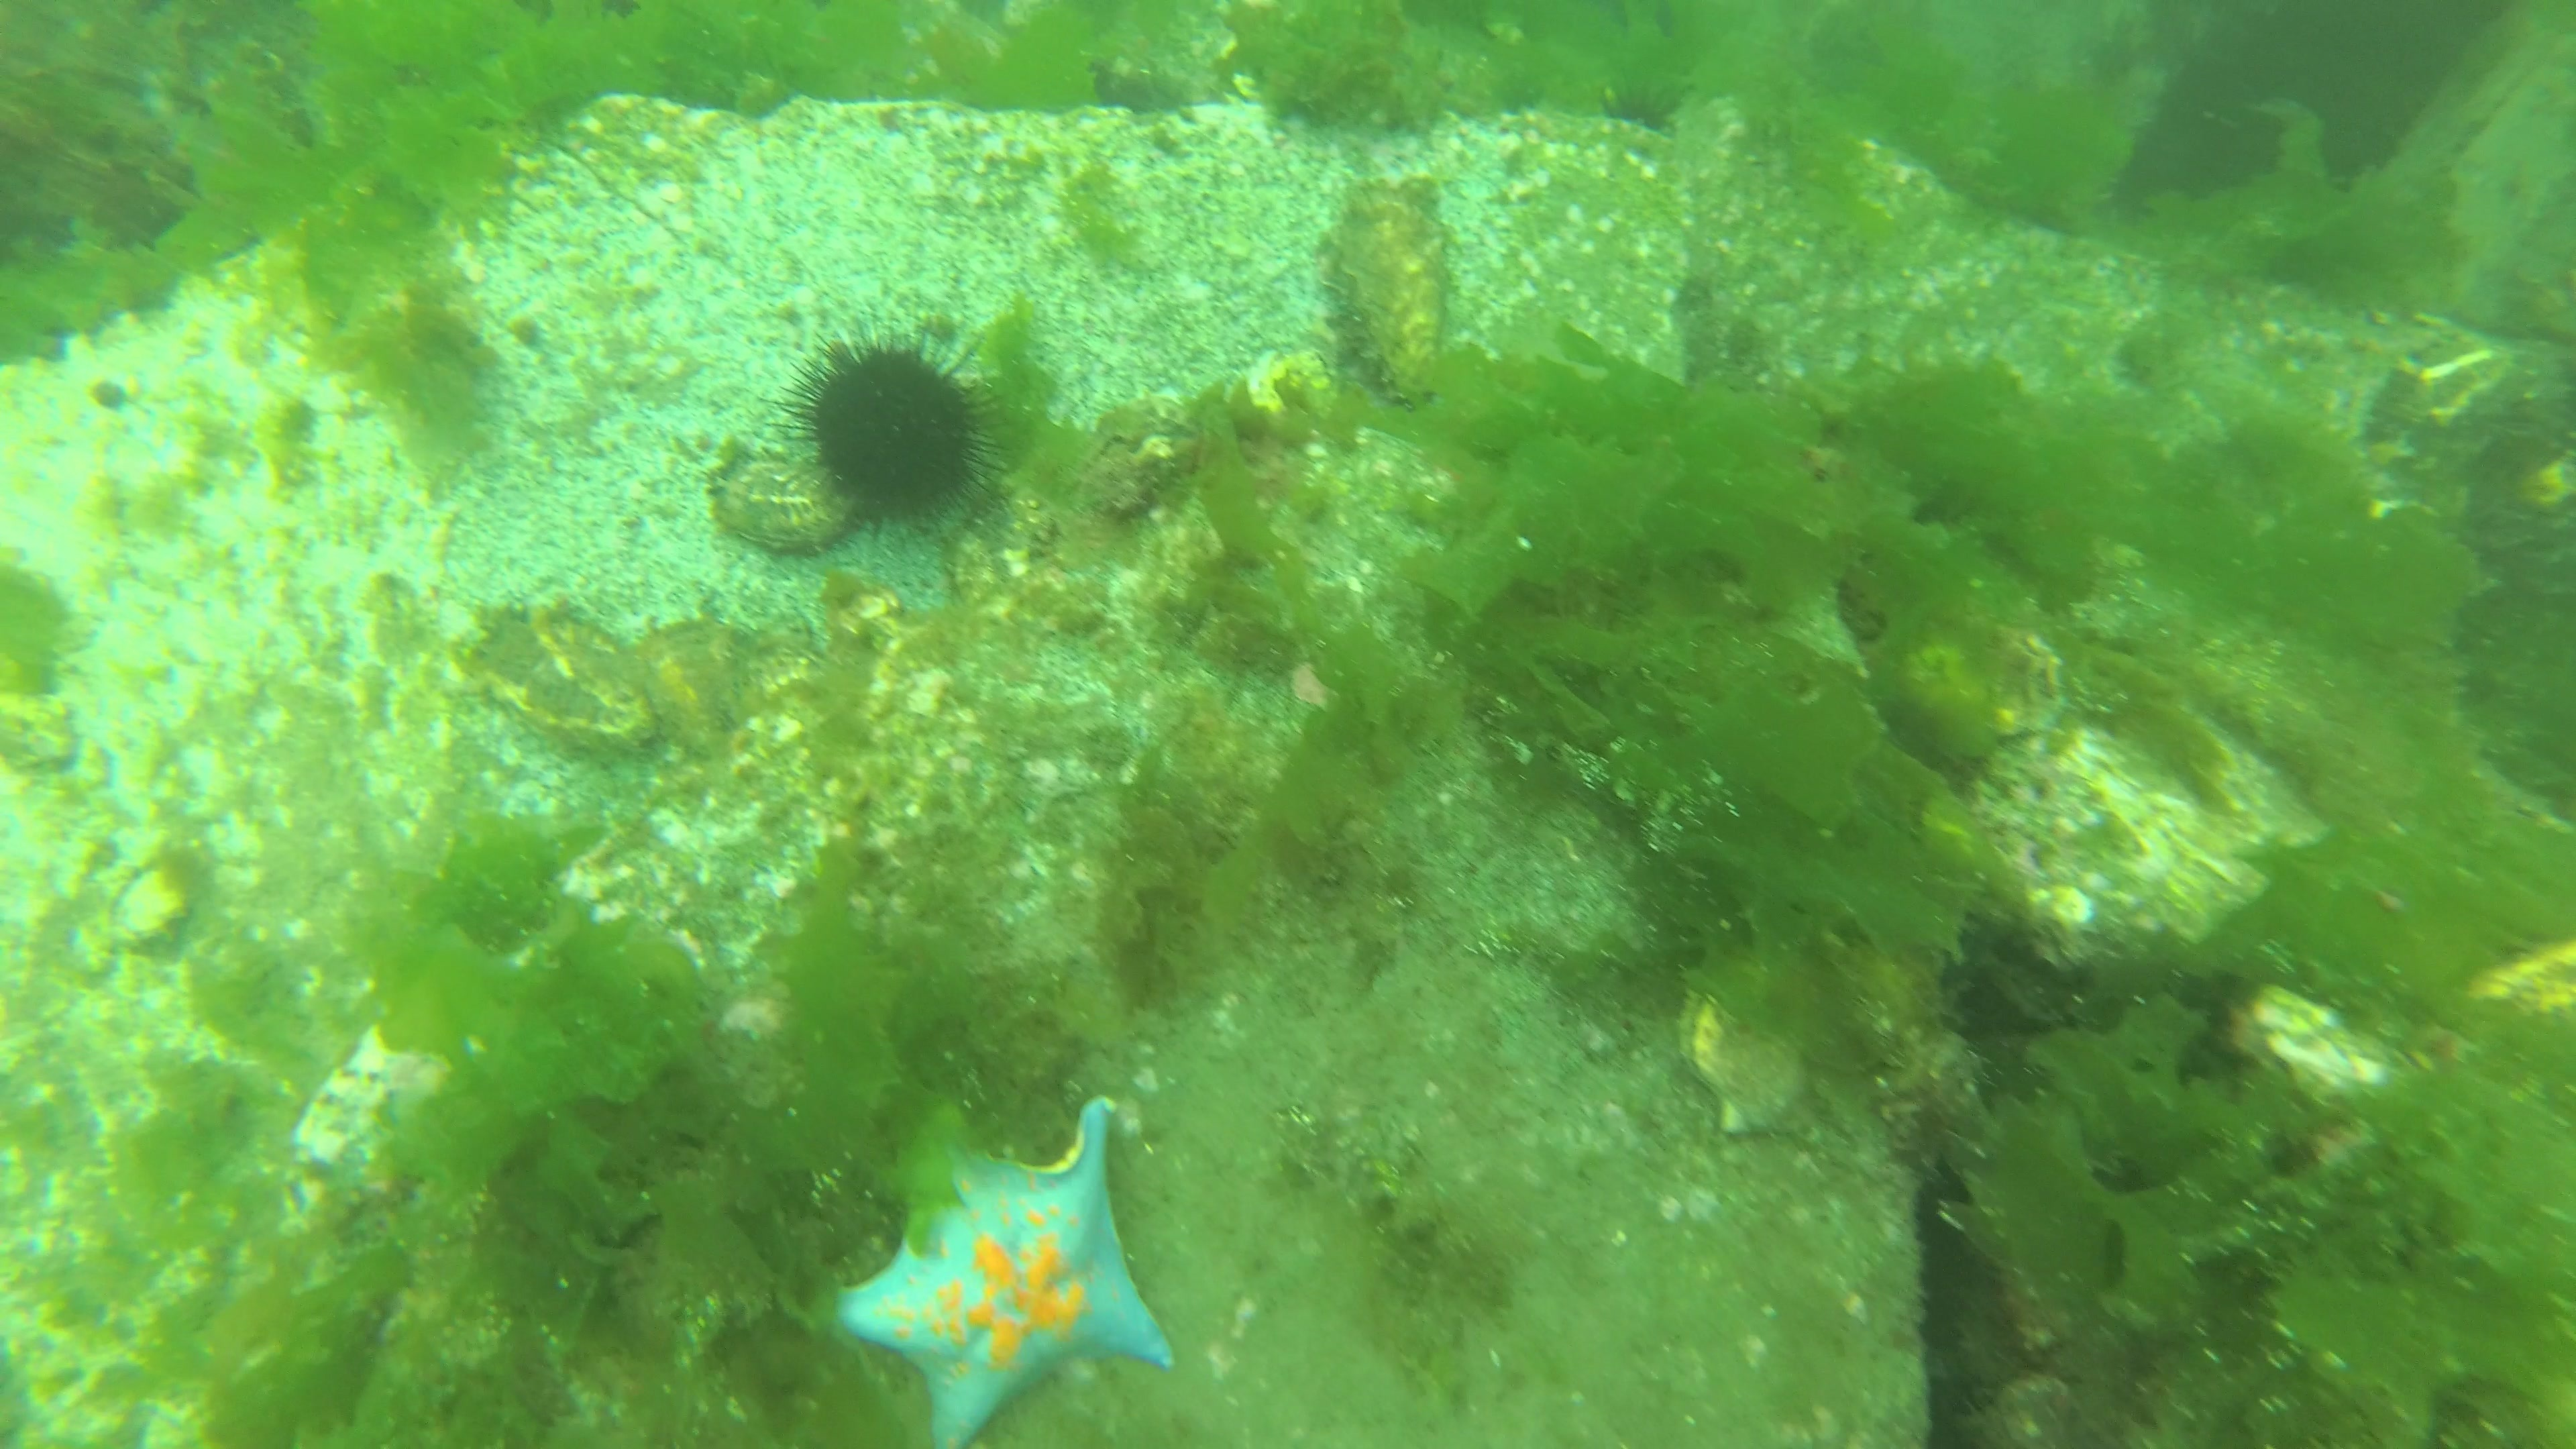echinus: (768, 338, 1001, 531)
scallop: (1652, 962, 1828, 1150)
starfish: (801, 1092, 1182, 1449)
